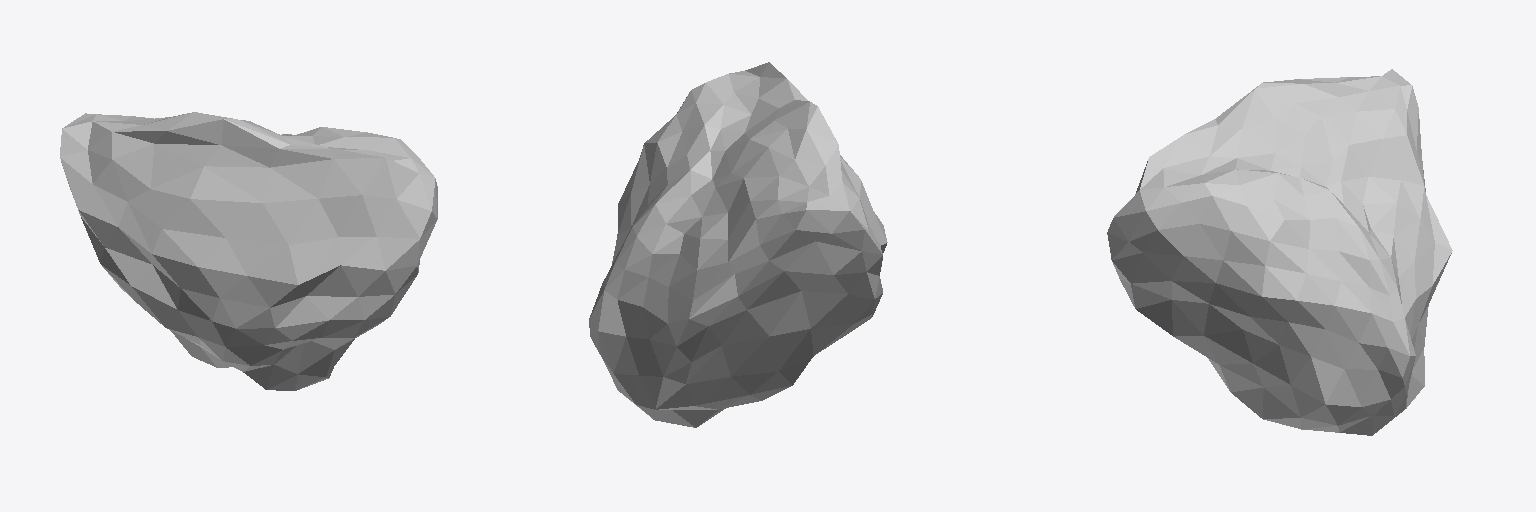
Rendered from asteroid20.obj.
3 views of the same model, side by side, from view 1: azimuth 30°, elevation 25°; view 2: azimuth 150°, elevation 25°; view 3: azimuth 270°, elevation 25° (orthographic).
Visible parts, largest first — view 1: asteroid; view 2: asteroid; view 3: asteroid.
Boxes of the visible parts, <box> form: asteroid: <box>60,112,437,390</box>; asteroid: <box>589,62,887,427</box>; asteroid: <box>1107,69,1452,435</box>.
Size of the model in its own units: 49.81 by 49.76 by 50.83.